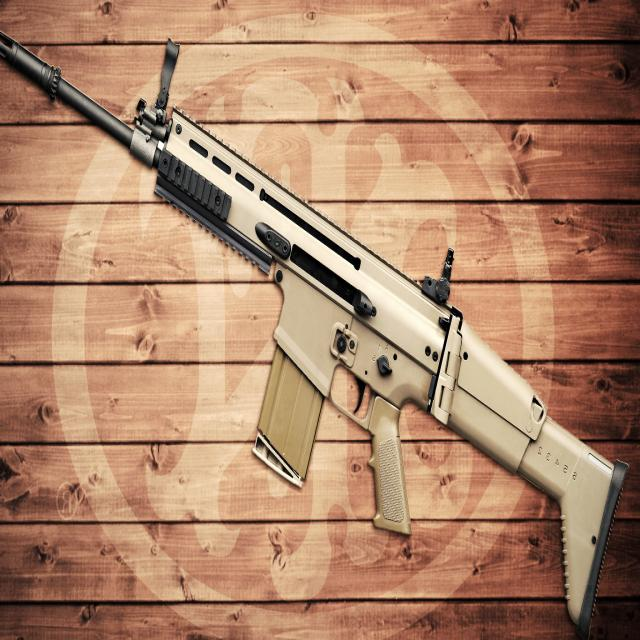Gun: (1, 46, 638, 584)
